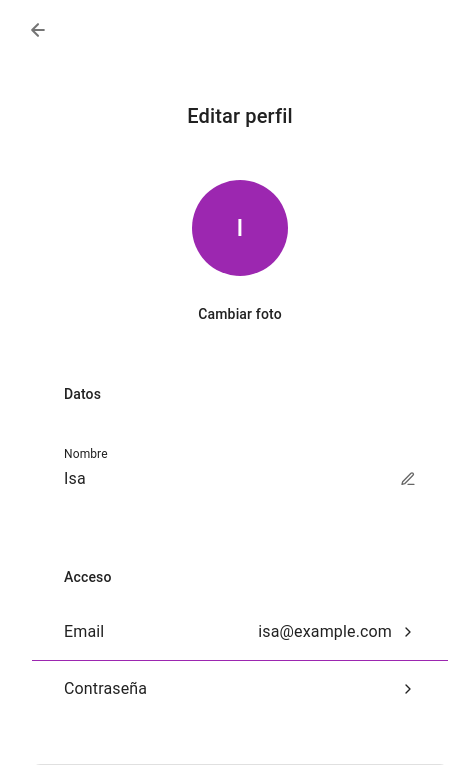
Given the edit profile screen › When the user opens the email and password rows › Then going back from the password screen returns to the edit screen
Expected: the field labelled "Nombre" is shown, x1=64 y1=463 x2=384 y2=495
Click the button "Contraseña" at [106, 688], box x1=32 y1=660 x2=448 y2=716
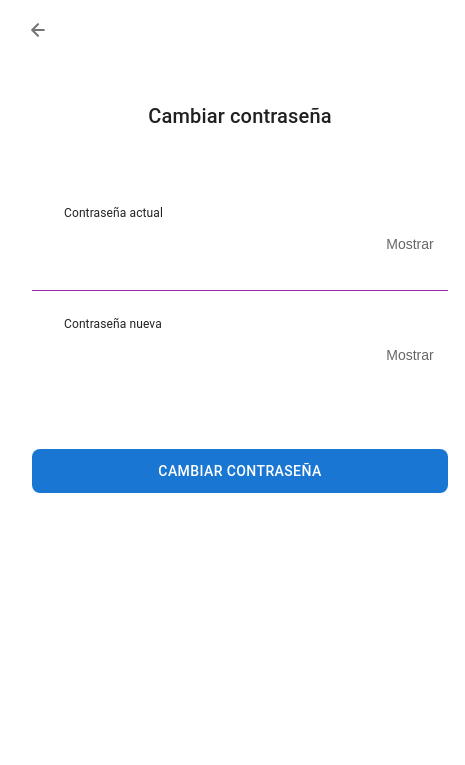
Expected: the heading "Cambiar contraseña" is shown, x1=148 y1=104 x2=332 y2=128
Click the button named "Volver" at [38, 30], box x1=16 y1=8 x2=60 y2=52
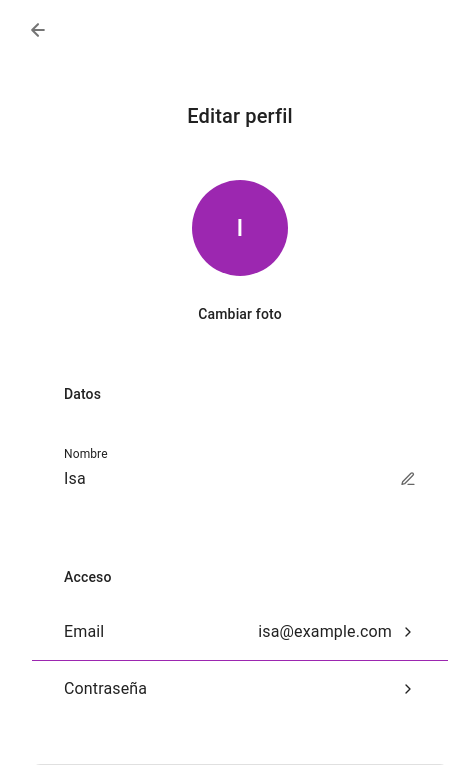
Expected: the heading "Editar perfil" is shown, x1=187 y1=104 x2=293 y2=128
